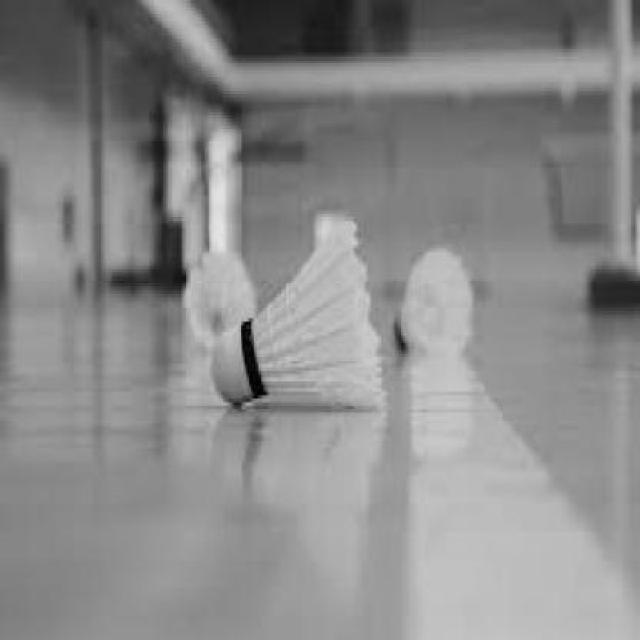Shuttlecock: (209, 212, 383, 414), (392, 244, 476, 358), (183, 245, 257, 346)
